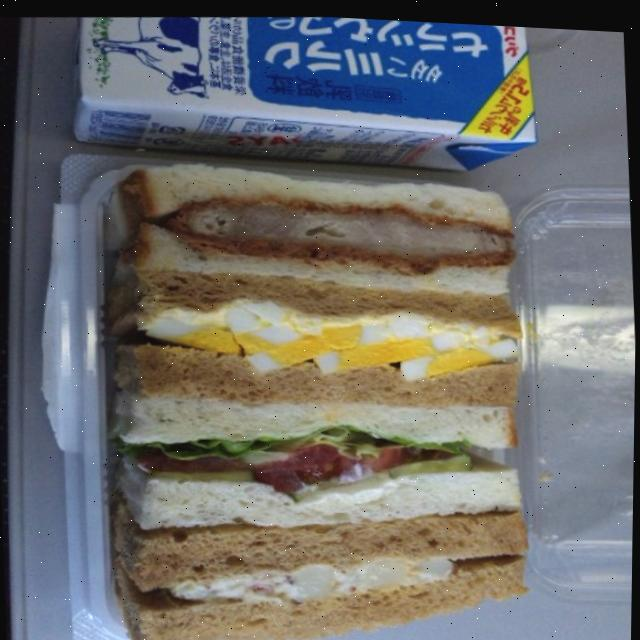三明治: (34, 114, 574, 640)
